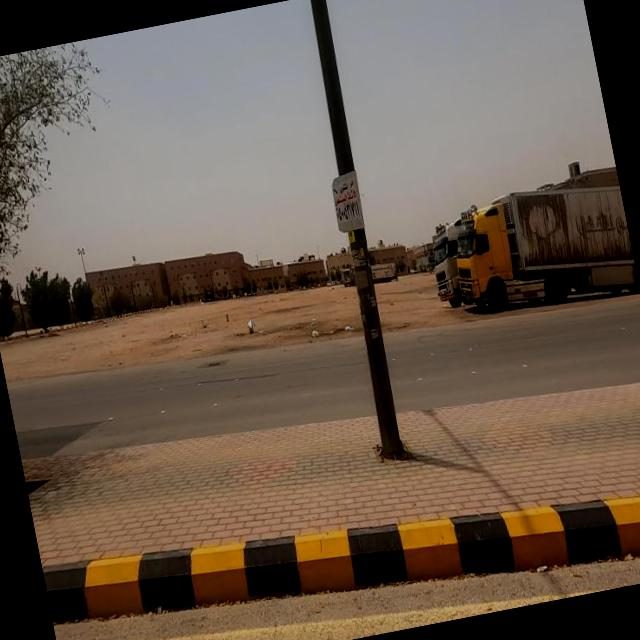debris: (291, 302, 335, 363), (331, 302, 372, 358)
